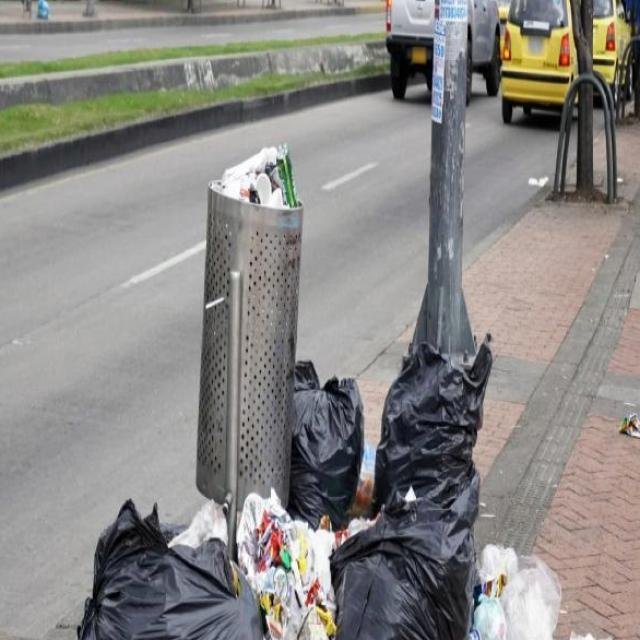garbage: (290, 320, 494, 533), (55, 490, 261, 640), (333, 510, 481, 640), (473, 529, 615, 640), (241, 484, 341, 640), (212, 135, 302, 219)
